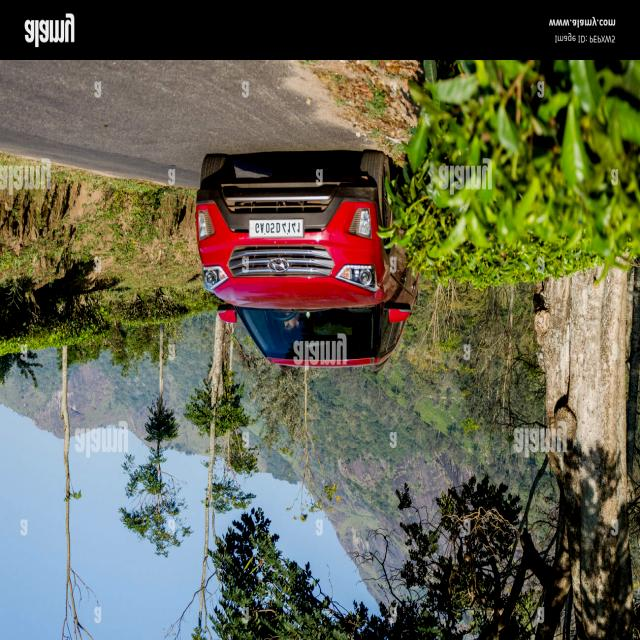red: (183, 136, 442, 410)
